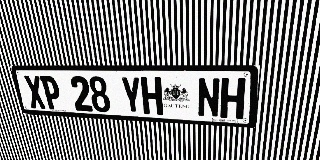2: (69, 76, 93, 111)
8: (88, 76, 111, 112)
H: (220, 78, 246, 119), (140, 77, 163, 115)
N: (197, 77, 220, 118)
P: (39, 76, 63, 110)
X: (23, 75, 47, 109)
Y: (120, 77, 143, 114)
